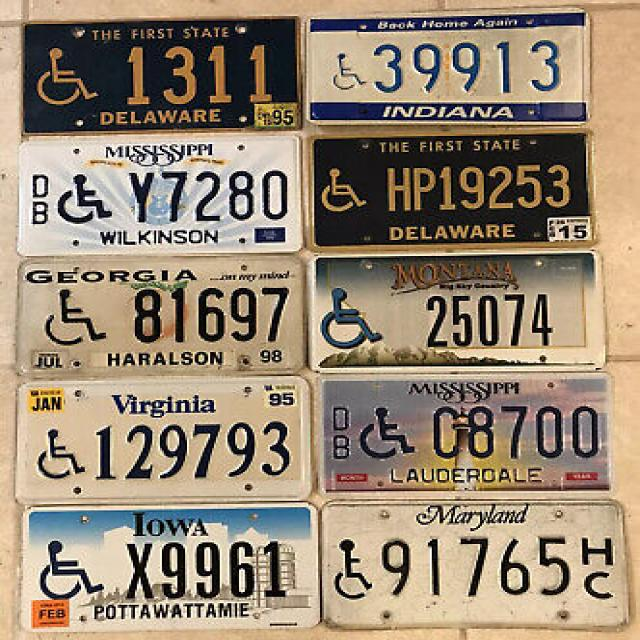symbol_of_access: (25, 46, 108, 110), (36, 536, 106, 602), (40, 285, 110, 349), (316, 288, 382, 350), (359, 405, 425, 464), (34, 421, 88, 488), (54, 171, 116, 227), (328, 534, 377, 604), (317, 162, 373, 215), (329, 50, 372, 91)
